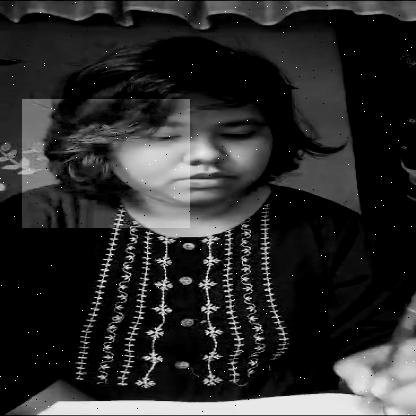Normal: (22, 99, 190, 228)
